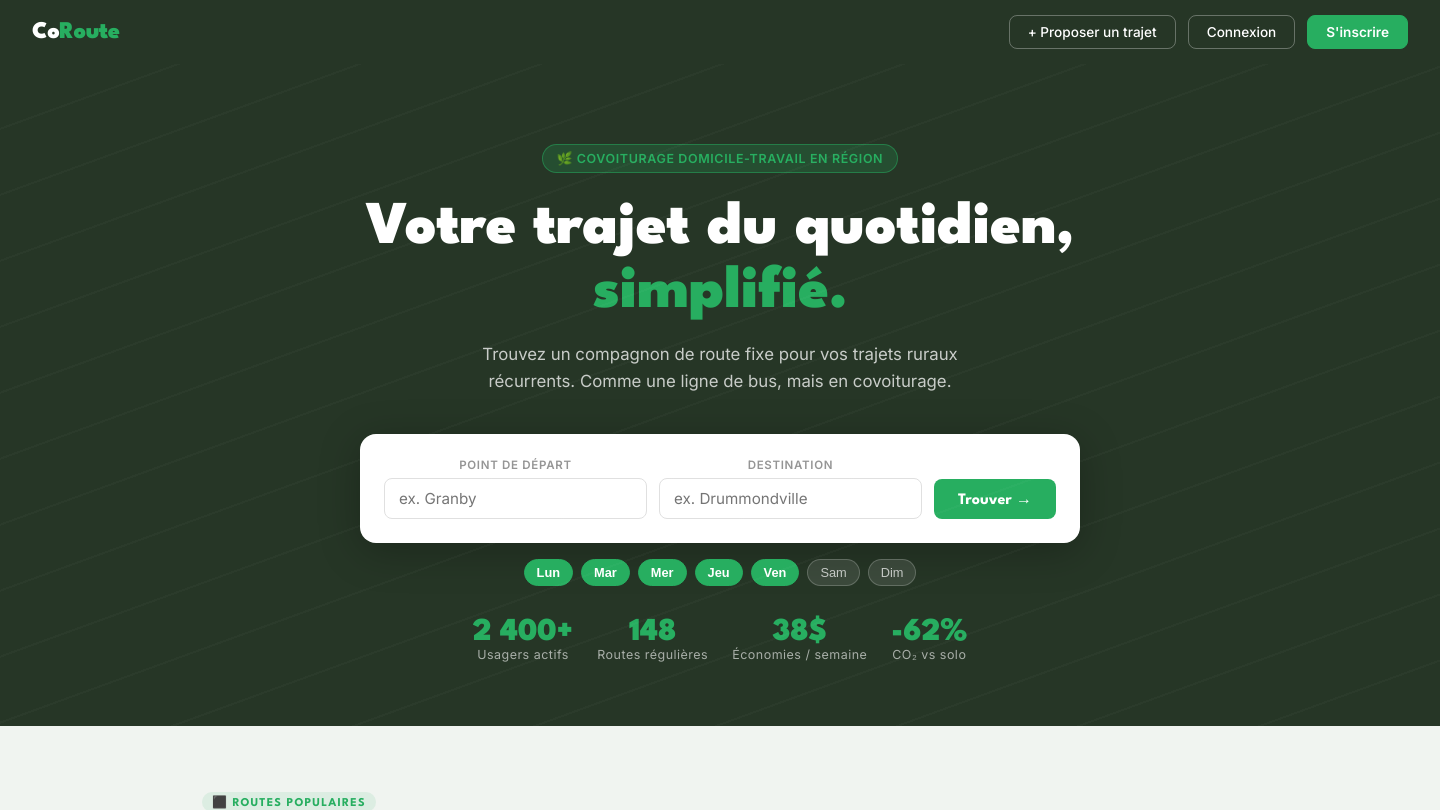
Test: App › ouvre le modal de connexion au clic sur Connexion
This screenshot has width=1440, height=810.
Click the button "Connexion": click(1242, 32) [1188,15,1295,49]
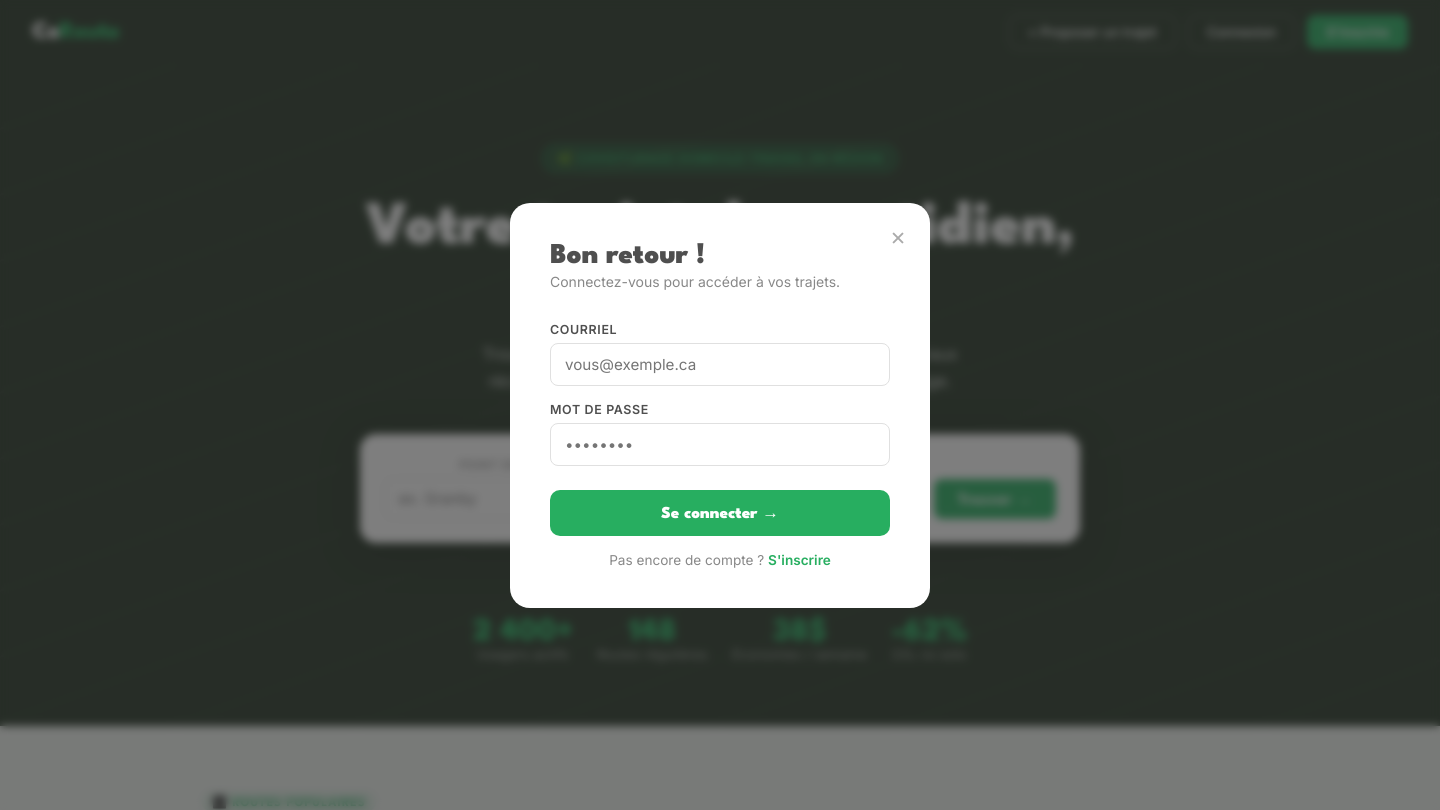
Check: the dialog is shown, box [510,202,930,608]
